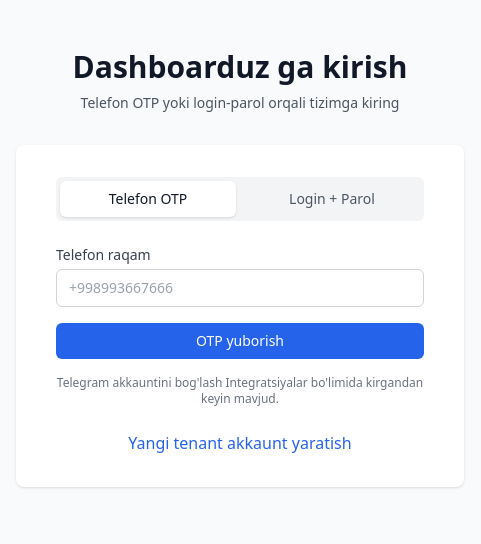
Test: LoginPage › switches to password mode
Click the button "Login + Parol". click: (332, 199)
box: [244,181,420,217]
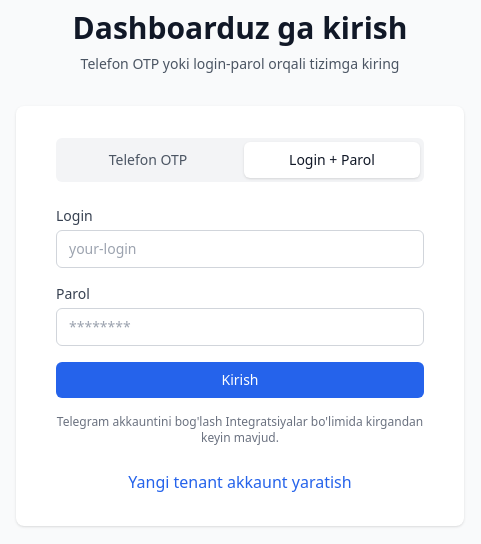
Expected: the field labelled "Login" is shown, [56,230,424,268]
Expected: the password field labelled "Parol" is shown, [56,308,424,346]
